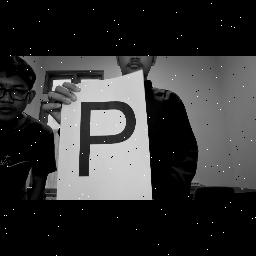p: (77, 101, 139, 185)
